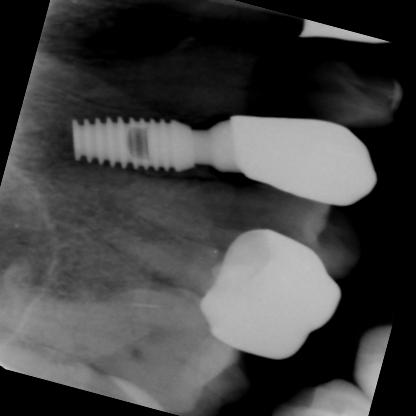Bicon: (55, 79, 238, 218)
